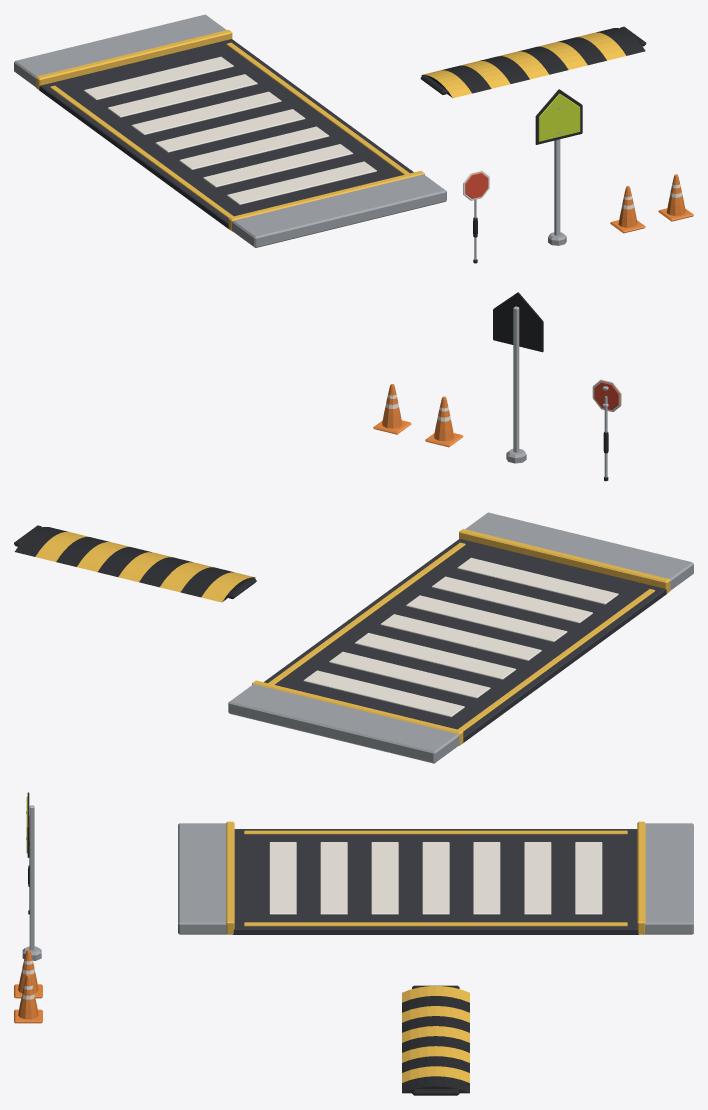
File: school-crossing-set.glb
3 views of the same model, one above another, from view 1: azimuth 30°, elevation 25°; view 2: azimuth 150°, elevation 25°; view 3: azimuth 270°, elevation 25° (orthographic). The views are drawn at different scales.
Visible parts, largest first — view 1: Crosswalk_Road, Crosswalk_Sidewalk_S, Speed_Hump_Body, Crosswalk_Sidewalk_N, Crosswalk_Kerb_N, Crosswalk_Stripe_2, Crosswalk_Stripe_4, Crosswalk_Stripe_6, Crosswalk_Stripe_7, Crosswalk_Stripe_1, Crosswalk_Stripe_3, Crosswalk_Stripe_5 (+9 smaller); view 2: Crosswalk_Road, Crosswalk_Sidewalk_N, Speed_Hump_Body, Crosswalk_Sidewalk_S, Crosswalk_Kerb_S, Crosswalk_Stripe_1, Crosswalk_Stripe_3, Crosswalk_Stripe_7, Crosswalk_Stripe_4, Crosswalk_Stripe_5, Crosswalk_Stripe_6, Crosswalk_Stripe_2 (+5 smaller); view 3: Crosswalk_Road, Speed_Hump_Body, Crosswalk_Sidewalk_N, Crosswalk_Sidewalk_S, Crosswalk_Stripe_1, Crosswalk_Stripe_2, Crosswalk_Stripe_3, Crosswalk_Stripe_4, Crosswalk_Stripe_5, Crosswalk_Stripe_6, Crosswalk_Stripe_7, Crosswalk_EdgeLine_W (+5 smaller).
Boxes of the visible parts, left/top/right/bottom form: Crosswalk_Road: left=39, top=39, right=413, bottom=229; Crosswalk_Sidewalk_S: left=232, top=174, right=446, bottom=247; Speed_Hump_Body: left=421, top=28, right=645, bottom=98; Crosswalk_Sidewalk_N: left=14, top=14, right=226, bottom=86; Crosswalk_Kerb_N: left=36, top=29, right=232, bottom=89; Crosswalk_Stripe_2: left=203, top=144, right=353, bottom=187; Crosswalk_Stripe_4: left=155, top=109, right=305, bottom=152; Crosswalk_Stripe_6: left=107, top=74, right=257, bottom=117; Crosswalk_Stripe_7: left=84, top=56, right=233, bottom=100; Crosswalk_Stripe_1: left=227, top=161, right=376, bottom=204; Crosswalk_Stripe_3: left=179, top=126, right=329, bottom=169; Crosswalk_Stripe_5: left=131, top=91, right=281, bottom=134; Crosswalk_Road: left=264, top=538, right=666, bottom=743; Crosswalk_Sidewalk_N: left=228, top=684, right=459, bottom=763; Speed_Hump_Body: left=14, top=527, right=255, bottom=602; Crosswalk_Sidewalk_S: left=465, top=512, right=693, bottom=590; Crosswalk_Kerb_S: left=459, top=529, right=670, bottom=593; Crosswalk_Stripe_1: left=457, top=557, right=618, bottom=604; Crosswalk_Stripe_3: left=406, top=595, right=567, bottom=641; Crosswalk_Stripe_7: left=303, top=670, right=464, bottom=717; Crosswalk_Stripe_4: left=380, top=614, right=541, bottom=660; Crosswalk_Stripe_5: left=355, top=633, right=516, bottom=679; Crosswalk_Stripe_6: left=329, top=651, right=490, bottom=698; Crosswalk_Stripe_2: left=432, top=576, right=592, bottom=623; Crosswalk_Road: left=233, top=829, right=638, bottom=934; Speed_Hump_Body: left=402, top=986, right=469, bottom=1093; Crosswalk_Sidewalk_N: left=645, top=823, right=693, bottom=934; Crosswalk_Sidewalk_S: left=178, top=823, right=226, bottom=934; Crosswalk_Stripe_1: left=269, top=842, right=296, bottom=914; Crosswalk_Stripe_2: left=320, top=842, right=347, bottom=914; Crosswalk_Stripe_3: left=371, top=842, right=398, bottom=914; Crosswalk_Stripe_4: left=422, top=842, right=449, bottom=914; Crosswalk_Stripe_5: left=473, top=842, right=500, bottom=914; Crosswalk_Stripe_6: left=524, top=842, right=551, bottom=914; Crosswalk_Stripe_7: left=575, top=842, right=602, bottom=914; Crosswalk_EdgeLine_W: left=244, top=830, right=627, bottom=834.
Bounding box in the file's own units: 36.48 × 10.67 × 40.05.
